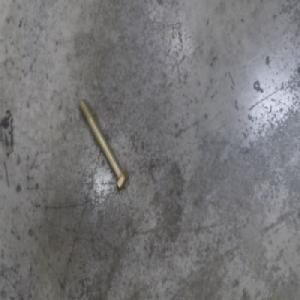Bolt: (78, 96, 129, 193)
